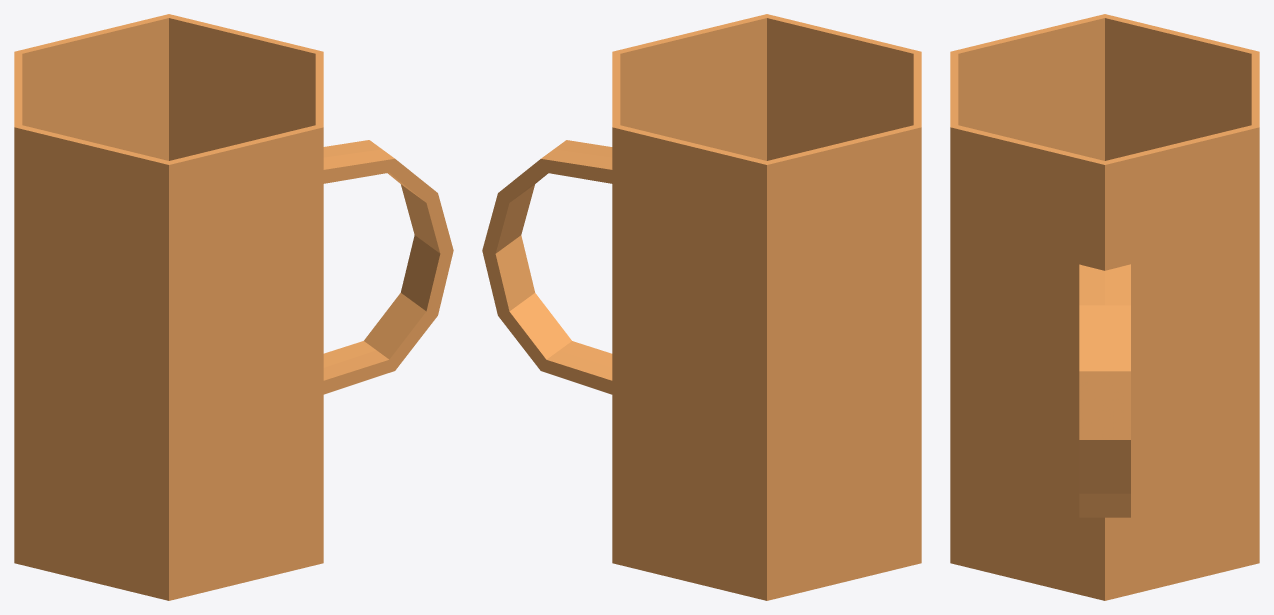
The model's file is Cup_01.fbx.
The picture shows the model from 3 angles, left to right: view 1: azimuth 30°, elevation 25°; view 2: azimuth 150°, elevation 25°; view 3: azimuth 270°, elevation 25°; orthographic projection.
Parts seen in each view (by area): view 1: Cup_01; view 2: Cup_01; view 3: Cup_01.
Part boxes in pixels (box(x1,y1,x2,y2)): Cup_01: box(14, 14, 453, 600); Cup_01: box(482, 14, 921, 600); Cup_01: box(950, 14, 1259, 600).
Size of the model in its own units: 15.62 by 15.25 by 9.81.
